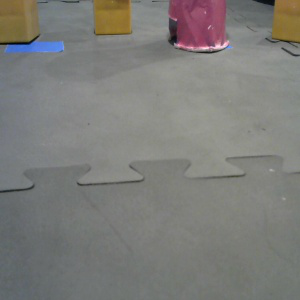Right: (167, 1, 231, 53)
